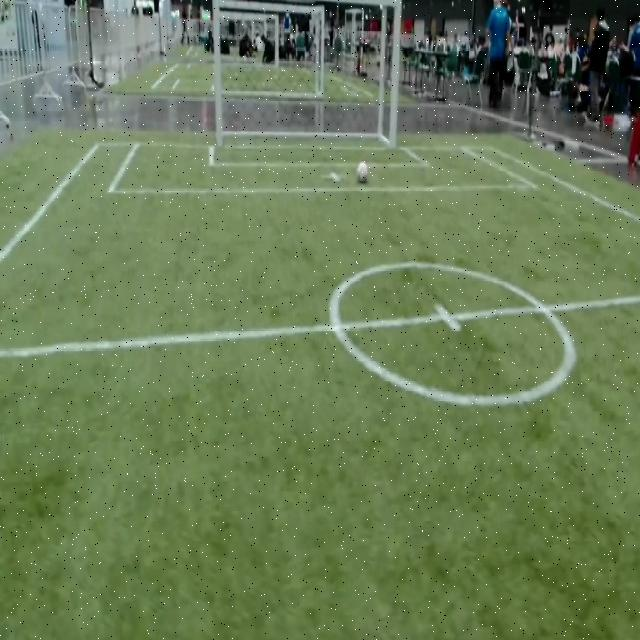ball: (357, 160, 368, 182)
goalpost: (216, 125, 226, 152), (388, 130, 397, 148)
